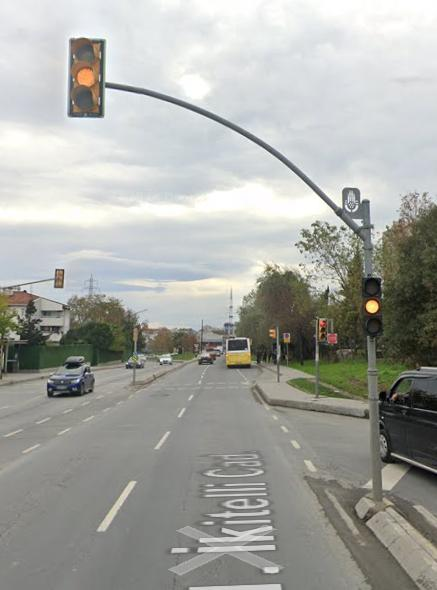yellowlight: (70, 35, 104, 116), (361, 275, 384, 336)
